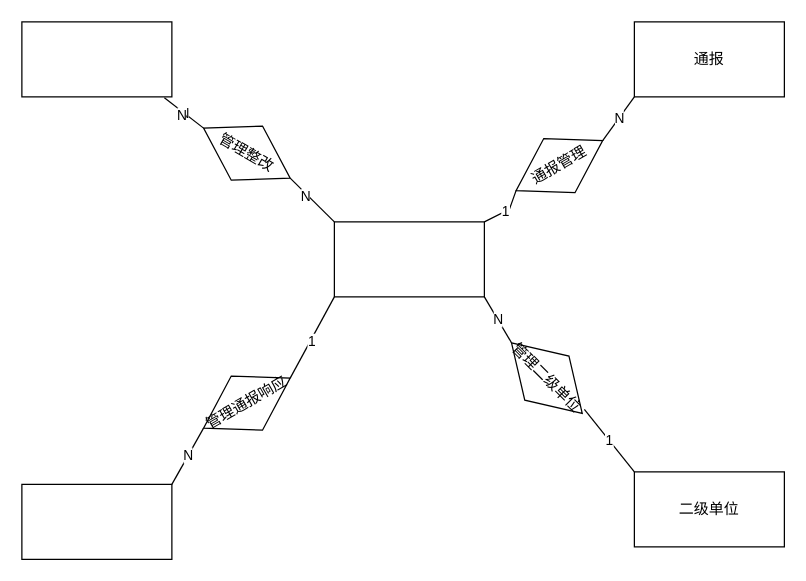
The diagram is 806 pixels wide and 581 high, and some of its shapes have lost their labels. The centre of each missing label's shape, as x and y in pixels:
整改记录: point (96, 59)
用户: point (408, 259)
通报响应: point (96, 521)
